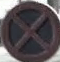No Stopping: (3, 5, 54, 57)
